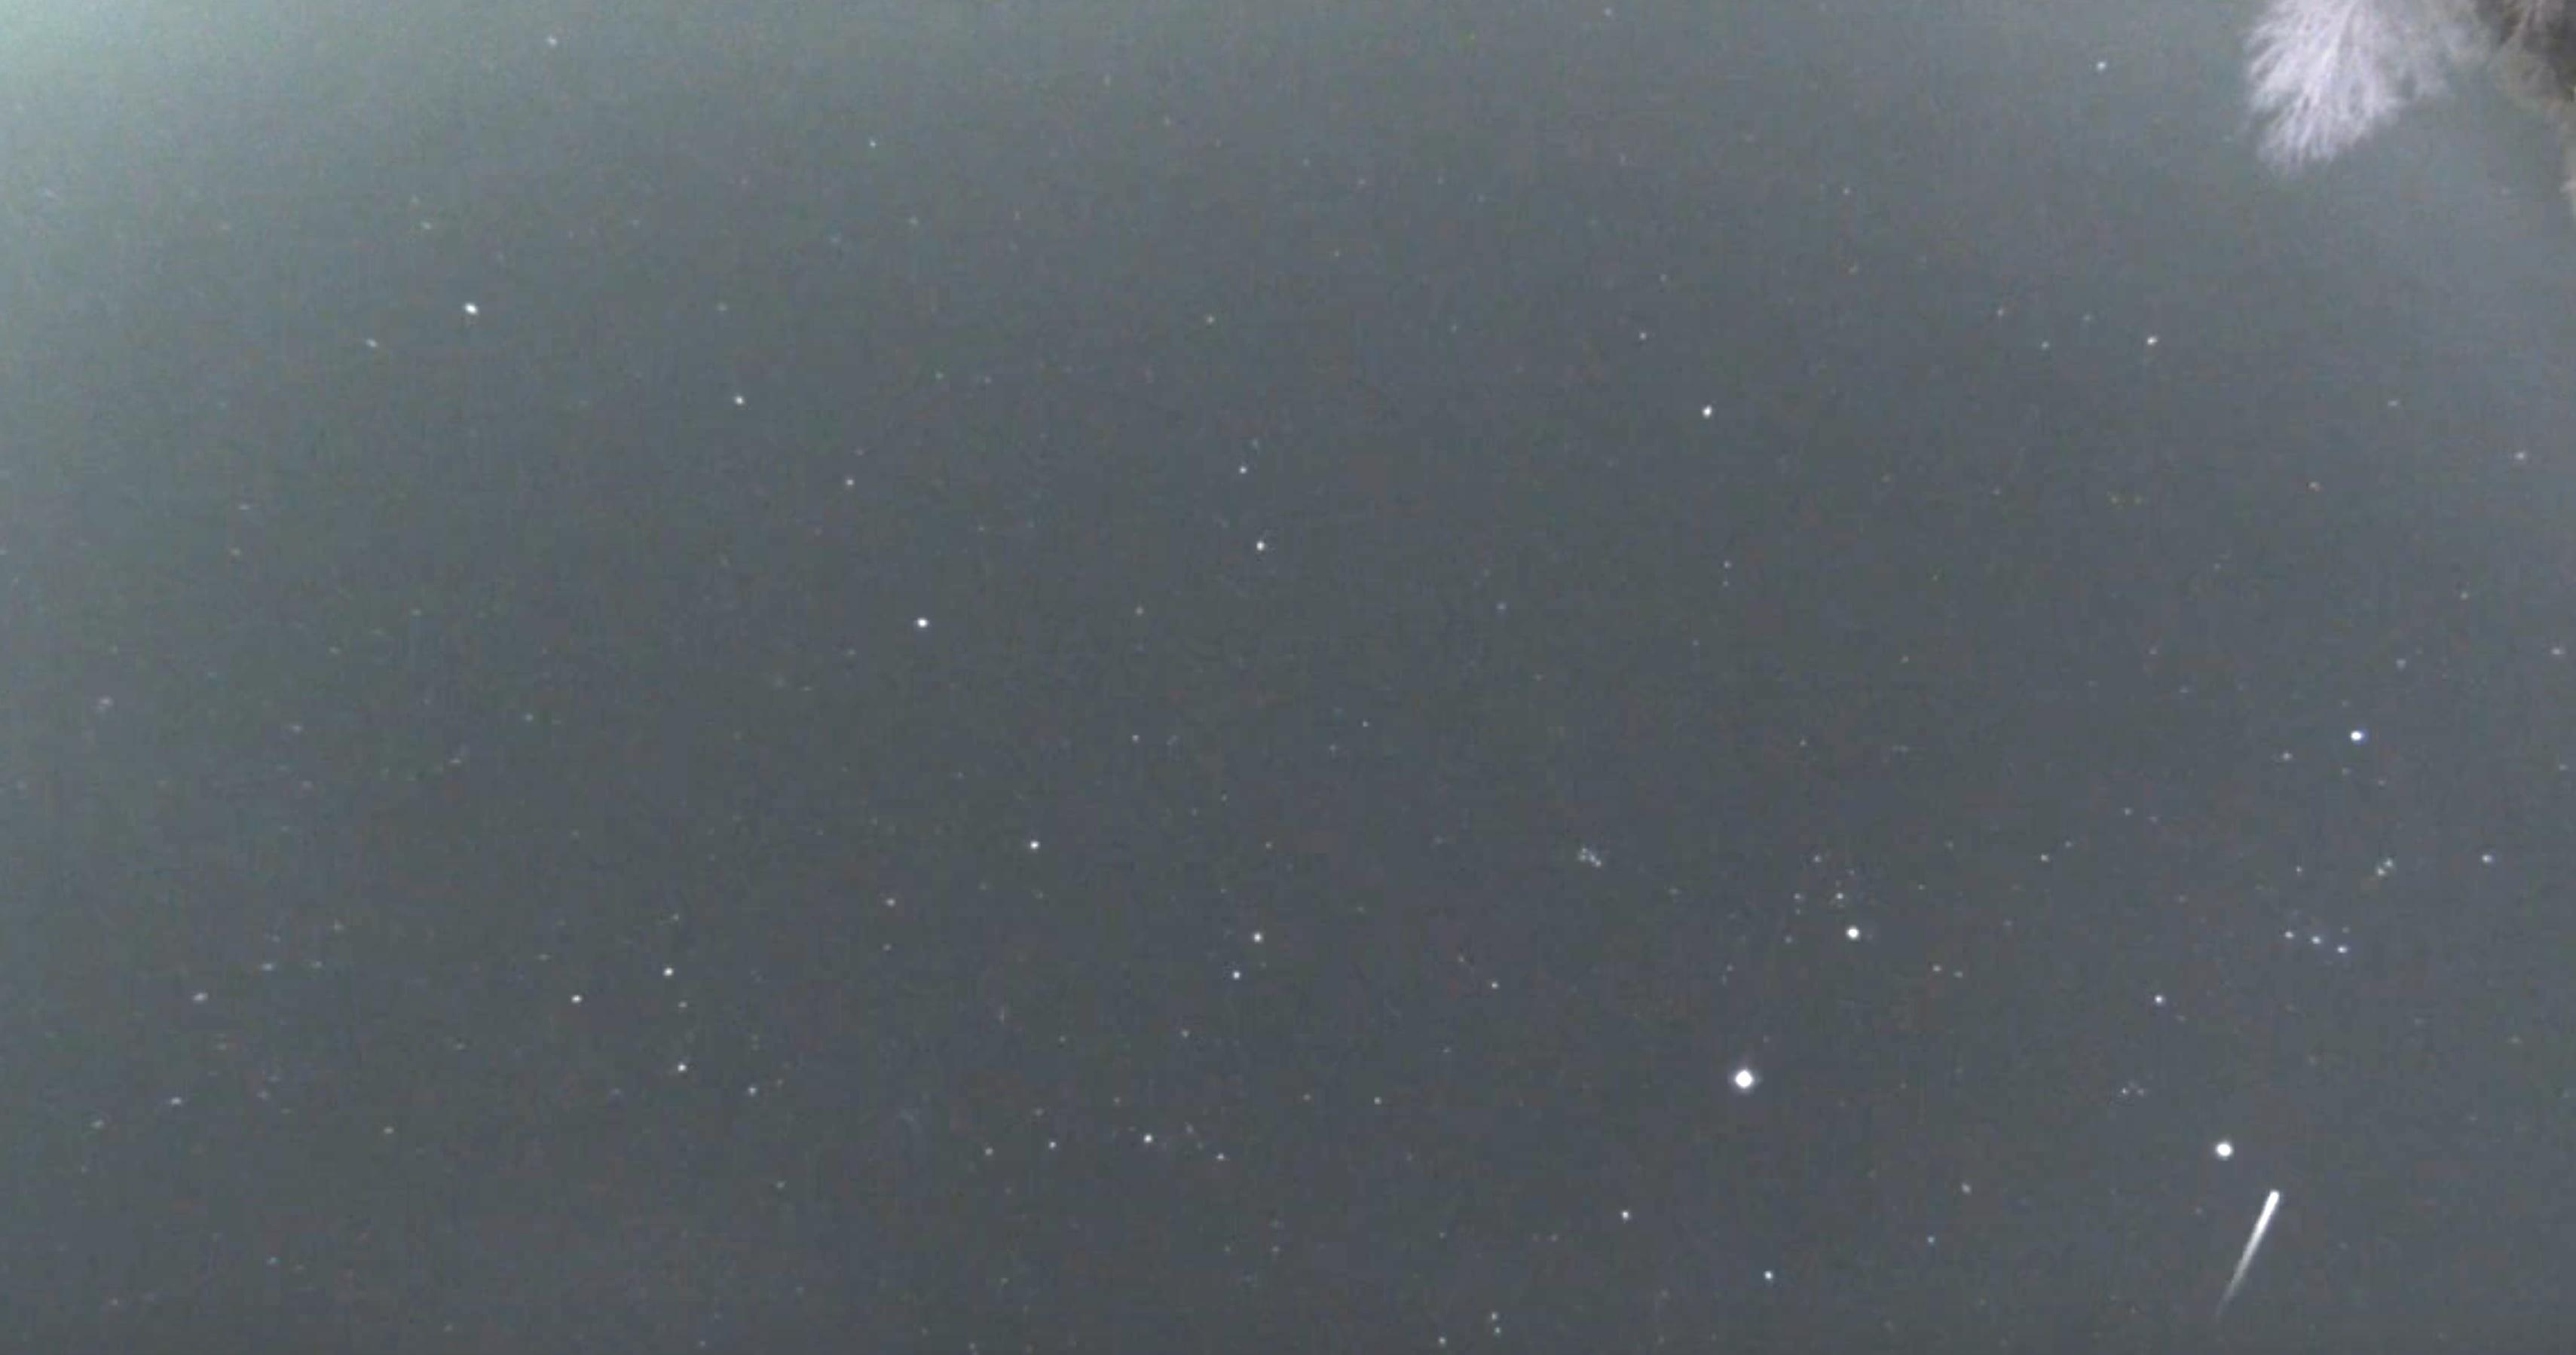meteorite: (2182, 1140, 2329, 1355)
